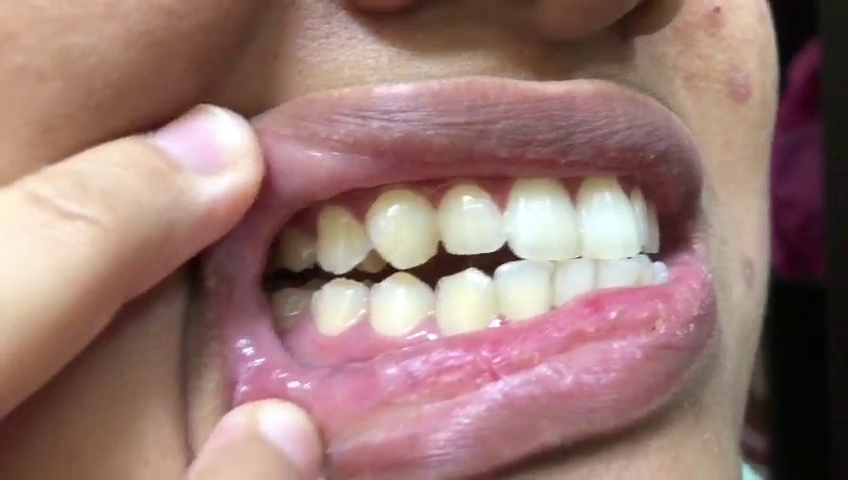1st Molar: (269, 285, 309, 334)
1st Premolar: (372, 270, 435, 337), (318, 199, 373, 273)
2nd Premolar: (310, 276, 372, 336), (278, 221, 314, 271)
Canine: (367, 185, 437, 269), (436, 265, 497, 337)
Central Incisor: (507, 174, 583, 260), (579, 170, 641, 259)
Lateral Incisor: (437, 185, 507, 254), (495, 259, 556, 322)
